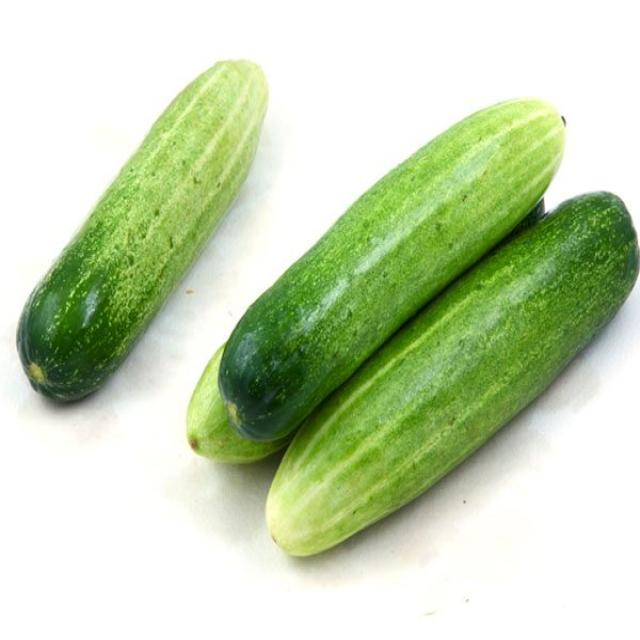cucumber: (182, 96, 638, 556), (17, 59, 268, 400)
